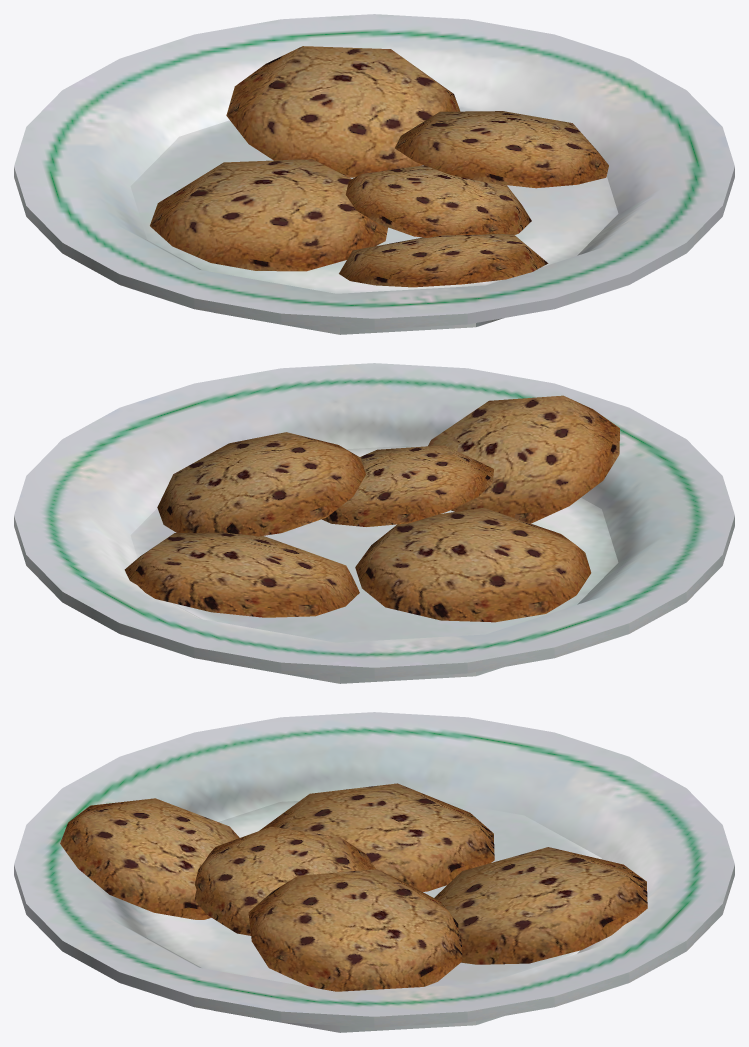
File: cookie_plate_cinematic.fbx
3 renders of one model, top to bottom at view 1: azimuth 30°, elevation 25°; view 2: azimuth 150°, elevation 25°; view 3: azimuth 270°, elevation 25°, orthographic.
Visible parts, largest first — view 1: mesh_0, mesh_3, mesh_1, mesh_4, mesh_2, mesh_5; view 2: mesh_0, mesh_1, mesh_4, mesh_5, mesh_3, mesh_2; view 3: mesh_0, mesh_4, mesh_3, mesh_1, mesh_5, mesh_2.
Boxes of the visible parts, x1=… form: mesh_0: x1=14, y1=14, x2=734, y2=334; mesh_3: x1=226, y1=46, x2=460, y2=177; mesh_1: x1=150, y1=159, x2=387, y2=271; mesh_4: x1=395, y1=111, x2=608, y2=188; mesh_2: x1=345, y1=165, x2=531, y2=237; mesh_5: x1=339, y1=234, x2=548, y2=287; mesh_0: x1=14, y1=363, x2=734, y2=683; mesh_1: x1=355, y1=507, x2=591, y2=622; mesh_4: x1=157, y1=432, x2=365, y2=536; mesh_5: x1=428, y1=395, x2=619, y2=523; mesh_3: x1=124, y1=532, x2=359, y2=617; mesh_2: x1=322, y1=445, x2=493, y2=526; mesh_0: x1=14, y1=712, x2=734, y2=1032; mesh_4: x1=248, y1=869, x2=462, y2=991; mesh_3: x1=434, y1=847, x2=647, y2=964; mesh_1: x1=259, y1=783, x2=494, y2=891; mesh_5: x1=60, y1=798, x2=239, y2=919; mesh_2: x1=194, y1=826, x2=375, y2=935.
Bounding box in the file's own units: 35 × 4.32 × 35.
Materials: 2 (2 with a texture image).
